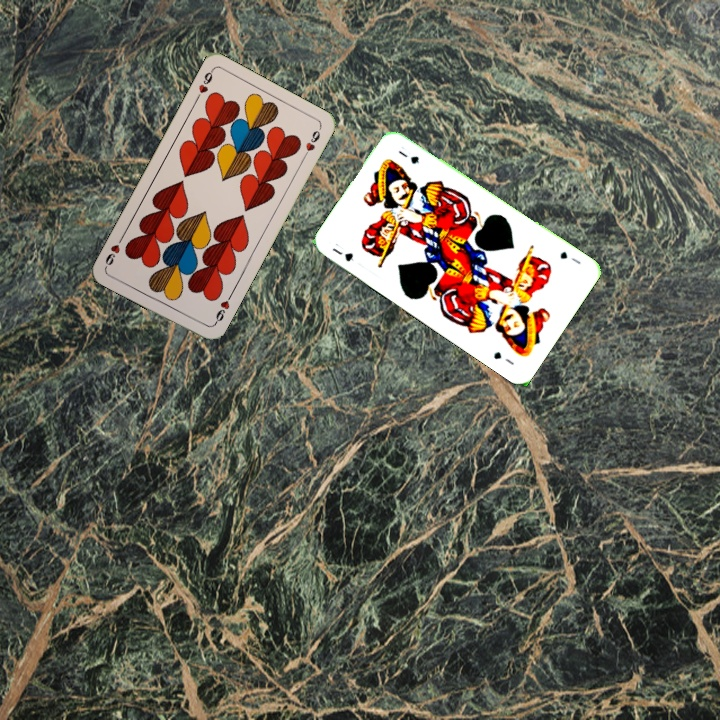GU: (328, 239, 356, 264), (556, 247, 583, 267)
H9: (192, 66, 216, 104), (210, 290, 234, 328)
